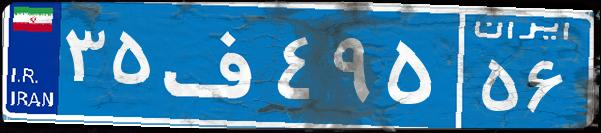3: (57, 26, 110, 107)
4: (273, 28, 330, 110)
5: (385, 28, 445, 110), (475, 38, 525, 113), (110, 28, 158, 105)
6: (525, 38, 570, 115)
9: (330, 28, 385, 110)
ف: (158, 15, 273, 115)
